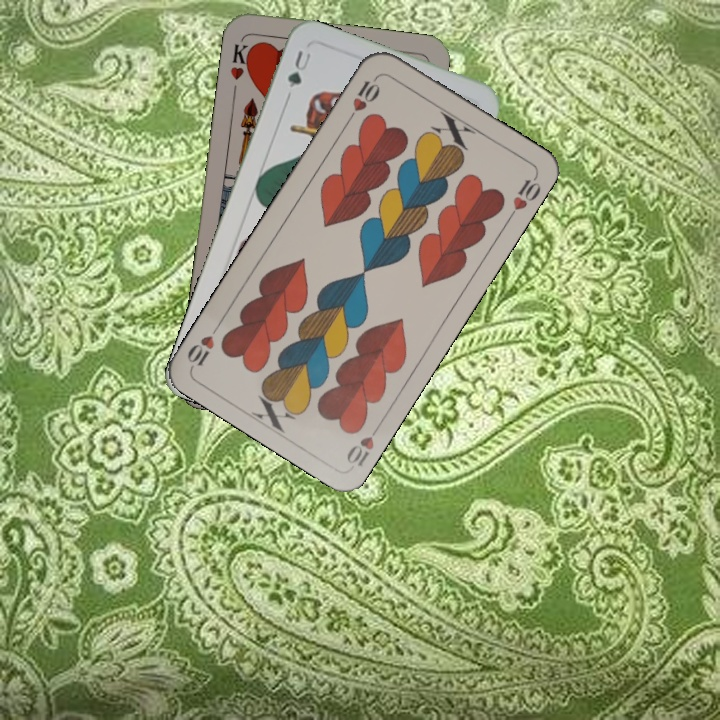GU: (282, 46, 314, 100)
H10: (342, 418, 385, 469), (343, 72, 383, 124)
HK: (226, 40, 256, 83)
